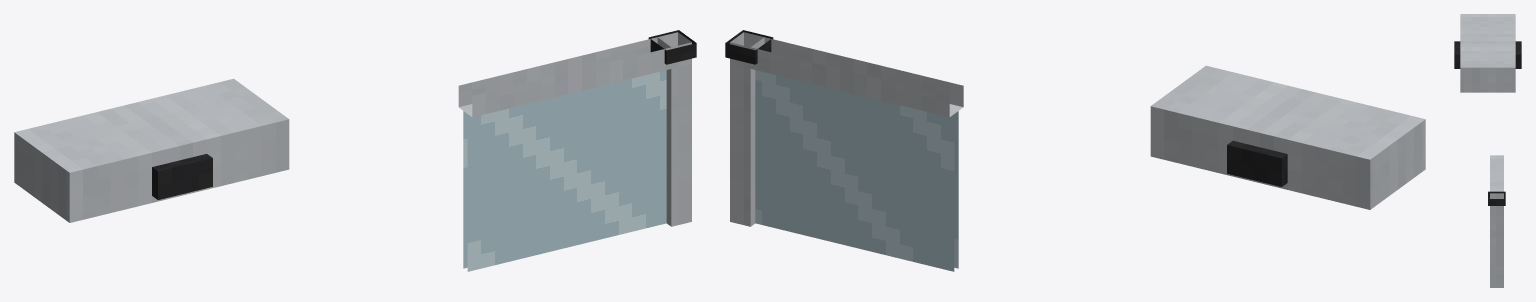
Rendered from auto_door_wide_slider_clear_c0_upper_right_open.obj.
3 views of the same model, side by side, from view 1: azimuth 30°, elevation 25°; view 2: azimuth 150°, elevation 25°; view 3: azimuth 270°, elevation 25° (orthographic). The views are drawn at different scales.
Parts seen in each view (by area): view 1: auto_door_wide_slider_clear_c0_upper_right_open; view 2: auto_door_wide_slider_clear_c0_upper_right_open; view 3: auto_door_wide_slider_clear_c0_upper_right_open.
Boxes of the visible parts, x1,y1,x2,y2 form: auto_door_wide_slider_clear_c0_upper_right_open: [14, 30, 696, 271]; auto_door_wide_slider_clear_c0_upper_right_open: [725, 30, 1425, 271]; auto_door_wide_slider_clear_c0_upper_right_open: [1454, 14, 1521, 287].
Bounding box in the file's own units: 2.98 × 1 × 0.5312.
